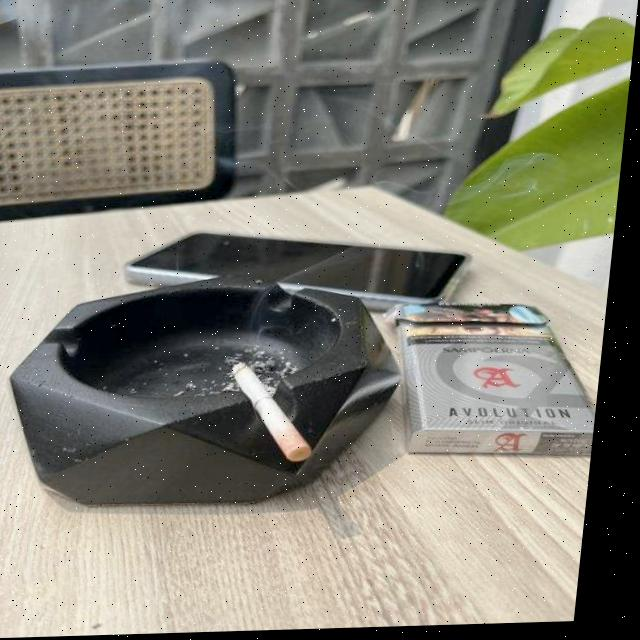cigarette: (234, 363, 328, 465)
